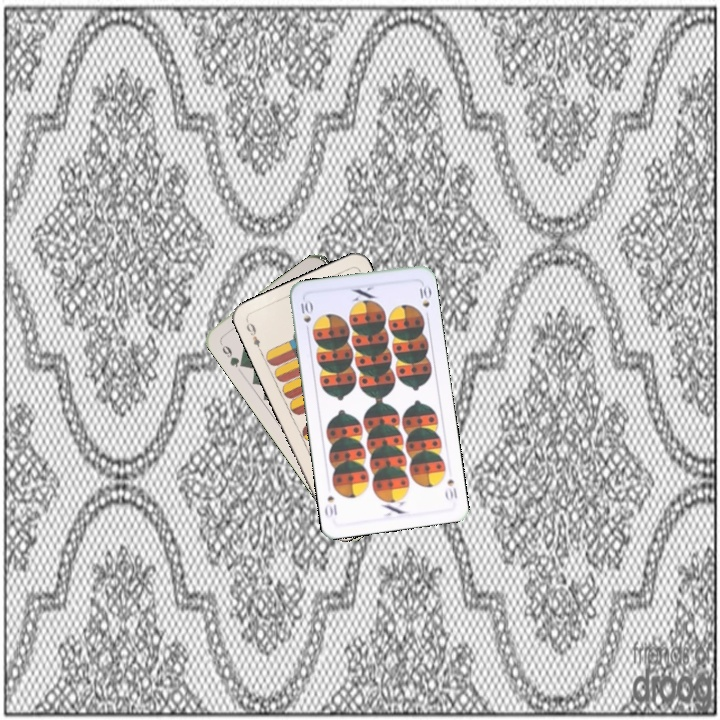E9: (242, 317, 265, 355)
G9: (215, 337, 247, 370)
S10: (297, 297, 314, 336), (441, 475, 460, 503)
